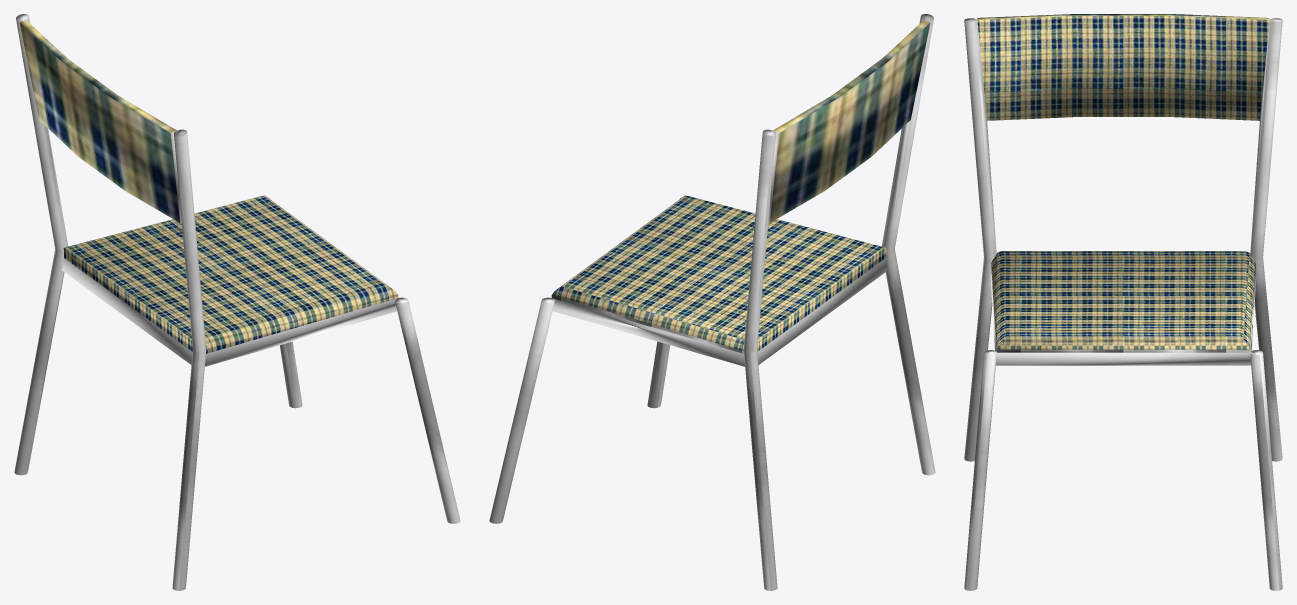
The model's file is TubularSteelChairSimple.fbx.
3 views of the same model, side by side, from view 1: azimuth 30°, elevation 25°; view 2: azimuth 150°, elevation 25°; view 3: azimuth 270°, elevation 25° (orthographic). The views are drawn at different scales.
Visible parts, largest first — view 1: default; view 2: default; view 3: default.
Boxes of the visible parts, <box> form: default: <box>14,14,460,590</box>; default: <box>489,14,935,590</box>; default: <box>964,14,1282,590</box>.
Bounding box in the file's own units: 140 × 207 × 136.
